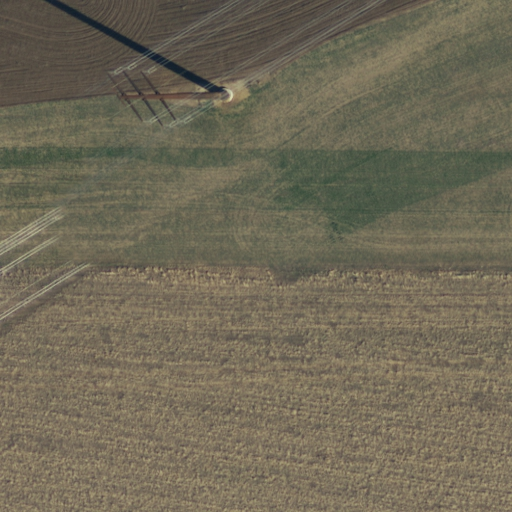TT: (101, 58, 244, 135)
